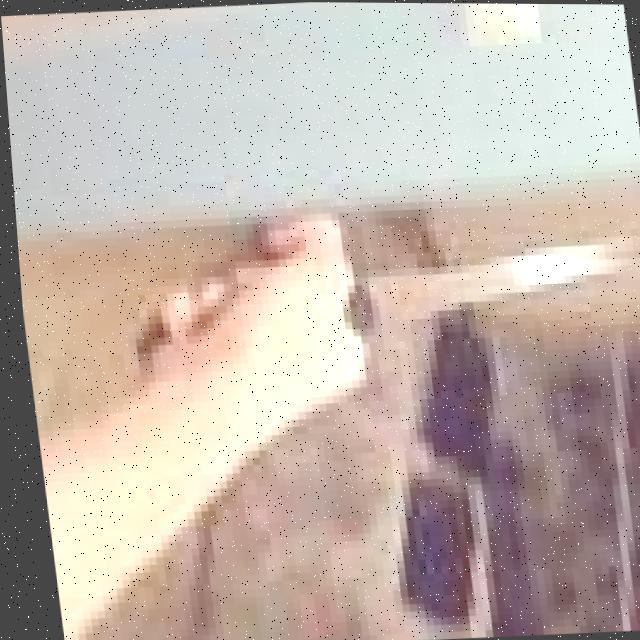knife: (327, 229, 640, 339)
